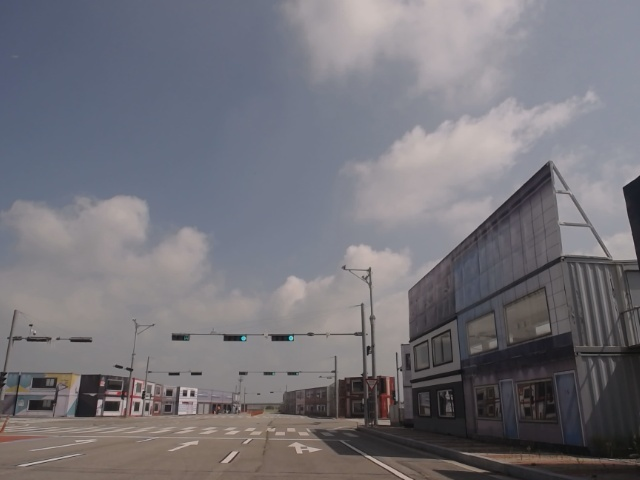straight_green_4: (271, 334, 294, 342), (223, 335, 248, 342)
